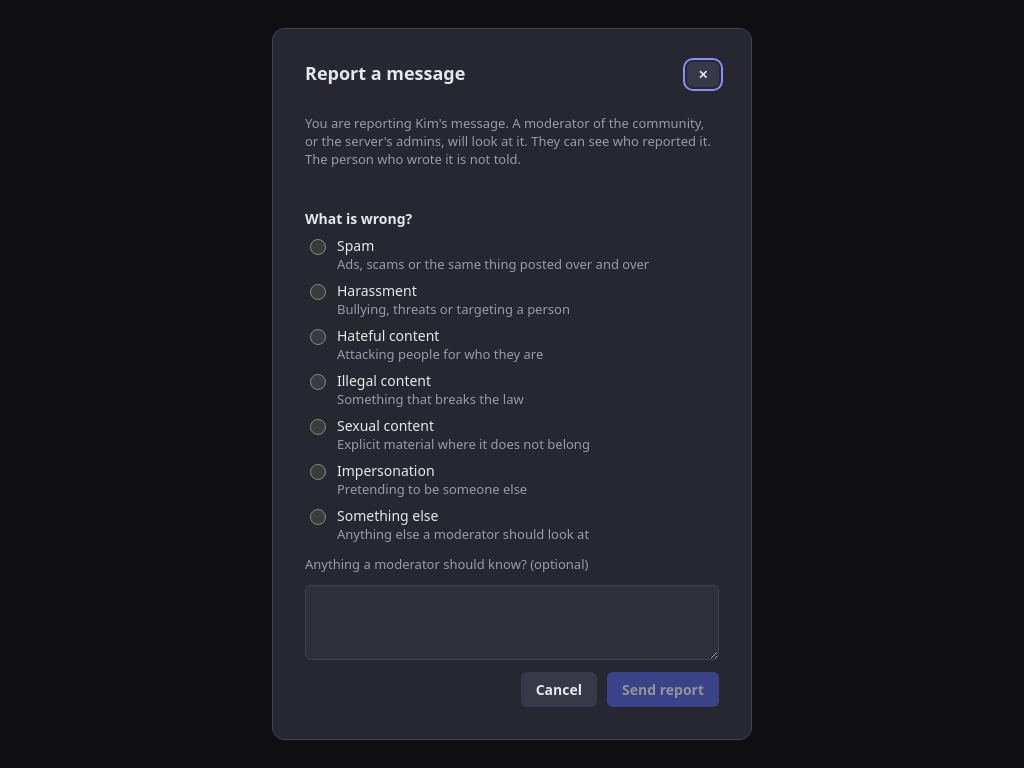
Test: reporting › cannot be sent until a reason is chosen
Expected: the button "Send report" is disabled, [607, 672, 719, 707]
Click the radio button labelled "Spam Ads, scams or the same thing posted over and over": (318, 247) [310, 239, 326, 255]
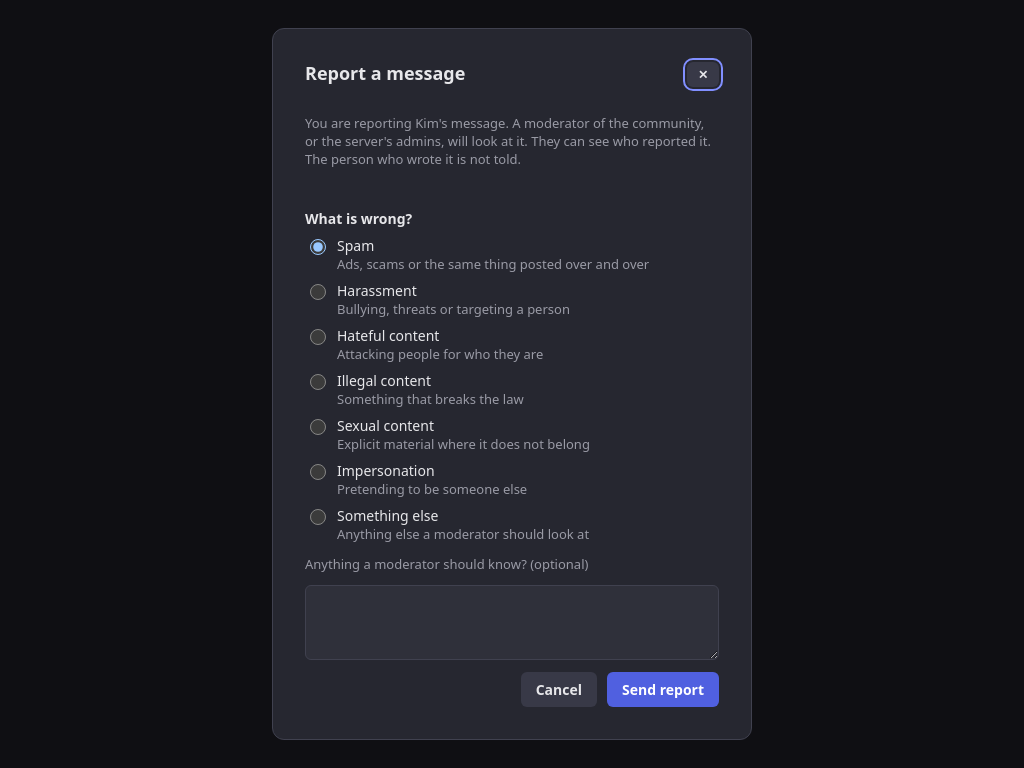
Now the button "Send report" is enabled, box [607, 672, 719, 707]
